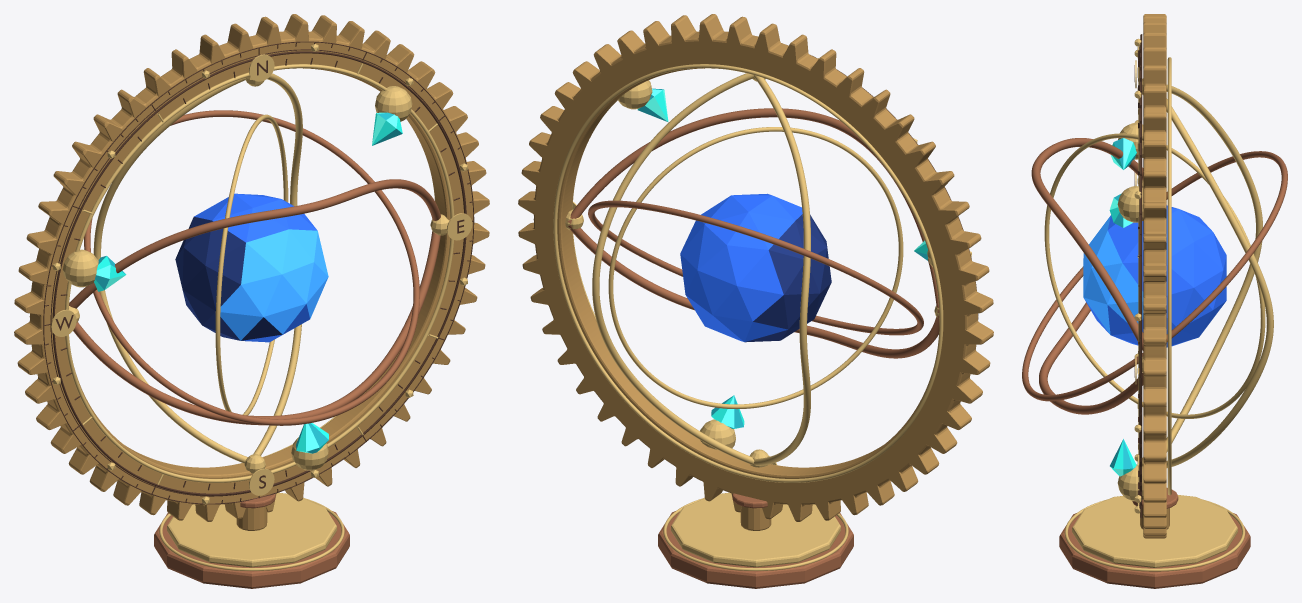
The model's file is copper-astrolabe-final.glb.
3 renders of one model, left to right at view 1: azimuth 30°, elevation 25°; view 2: azimuth 150°, elevation 25°; view 3: azimuth 270°, elevation 25°, orthographic. The views are drawn at different scales.
Parts seen in each view (by area): view 1: CA | 48-tooth brass outer ring | GLB, CA | hand-faceted blue core | GLB, CA | bright foot cap | GLB, CA | inclined copper meridian | GLB, CA | front inner fillet | GLB, CA | twelve-sided bronze foot | GLB, CA | curved orbit strut 3 | GLB, CA | curved orbit strut 1 | GLB, CA | engraved chapter line | GLB, CA | curved orbit strut 2 | GLB, CA | inner brass meridian | GLB, CA | curved orbit strut 4 | GLB (+10 smaller); view 2: CA | 48-tooth brass outer ring | GLB, CA | hand-faceted blue core | GLB, CA | bright foot cap | GLB, CA | rear inner fillet | GLB, CA | inner brass meridian | GLB, CA | twelve-sided bronze foot | GLB, CA | curved orbit strut 4 | GLB, CA | inclined copper meridian | GLB, CA | curved orbit strut 2 | GLB, CA | curved orbit strut 1 | GLB, CA | curved orbit strut 3 | GLB, CA | foot rim inlay | GLB (+4 smaller); view 3: CA | 48-tooth brass outer ring | GLB, CA | hand-faceted blue core | GLB, CA | bright foot cap | GLB, CA | twelve-sided bronze foot | GLB, CA | inclined copper meridian | GLB, CA | curved orbit strut 4 | GLB, CA | inner brass meridian | GLB, CA | curved orbit strut 2 | GLB, CA | curved orbit strut 1 | GLB, CA | rear inner fillet | GLB, CA | curved orbit strut 3 | GLB, CA | engraved chapter line | GLB (+7 smaller).
Part boxes in pixels (left/top/right/bottom): CA | 48-tooth brass outer ring | GLB: left=14, top=14, right=489, bottom=521; CA | hand-faceted blue core | GLB: left=175, top=193, right=328, bottom=342; CA | bright foot cap | GLB: left=167, top=492, right=336, bottom=567; CA | inclined copper meridian | GLB: left=84, top=110, right=419, bottom=425; CA | front inner fillet | GLB: left=65, top=64, right=454, bottom=482; CA | twelve-sided bronze foot | GLB: left=154, top=511, right=349, bottom=588; CA | curved orbit strut 3 | GLB: left=73, top=231, right=440, bottom=425; CA | curved orbit strut 1 | GLB: left=69, top=179, right=440, bottom=308; CA | engraved chapter line | GLB: left=52, top=51, right=466, bottom=495; CA | curved orbit strut 2 | GLB: left=93, top=78, right=247, bottom=463; CA | inner brass meridian | GLB: left=215, top=114, right=288, bottom=415; CA | curved orbit strut 4 | GLB: left=253, top=73, right=302, bottom=455; CA | 48-tooth brass outer ring | GLB: left=518, top=14, right=993, bottom=521; CA | hand-faceted blue core | GLB: left=680, top=193, right=831, bottom=342; CA | bright foot cap | GLB: left=671, top=492, right=840, bottom=567; CA | rear inner fillet | GLB: left=553, top=64, right=943, bottom=482; CA | inner brass meridian | GLB: left=608, top=127, right=903, bottom=409; CA | twelve-sided bronze foot | GLB: left=658, top=511, right=853, bottom=588; CA | curved orbit strut 4 | GLB: left=592, top=73, right=754, bottom=464; CA | inclined copper meridian | GLB: left=588, top=200, right=923, bottom=335; CA | curved orbit strut 2 | GLB: left=754, top=75, right=810, bottom=465; CA | curved orbit strut 1 | GLB: left=567, top=108, right=939, bottom=312; CA | curved orbit strut 3 | GLB: left=567, top=225, right=939, bottom=358; CA | foot rim inlay | GLB: left=663, top=498, right=848, bottom=570; CA | 48-tooth brass outer ring | GLB: left=1143, top=14, right=1166, bottom=538; CA | hand-faceted blue core | GLB: left=1083, top=205, right=1226, bottom=347; CA | bright foot cap | GLB: left=1072, top=495, right=1237, bottom=567; CA | twelve-sided bronze foot | GLB: left=1059, top=513, right=1250, bottom=588; CA | inclined copper meridian | GLB: left=1022, top=151, right=1287, bottom=401; CA | curved orbit strut 4 | GLB: left=1166, top=98, right=1273, bottom=467; CA | inner brass meridian | GLB: left=1044, top=133, right=1265, bottom=418; CA | curved orbit strut 2 | GLB: left=1166, top=84, right=1262, bottom=452; CA | curved orbit strut 1 | GLB: left=1031, top=138, right=1143, bottom=350; CA | rear inner fillet | GLB: left=1167, top=57, right=1171, bottom=495; CA | curved orbit strut 3 | GLB: left=1039, top=302, right=1143, bottom=414; CA | engraved chapter line | GLB: left=1139, top=46, right=1141, bottom=508.
Bounding box in the file's own units: 2.91 × 3.13 × 1.48.
